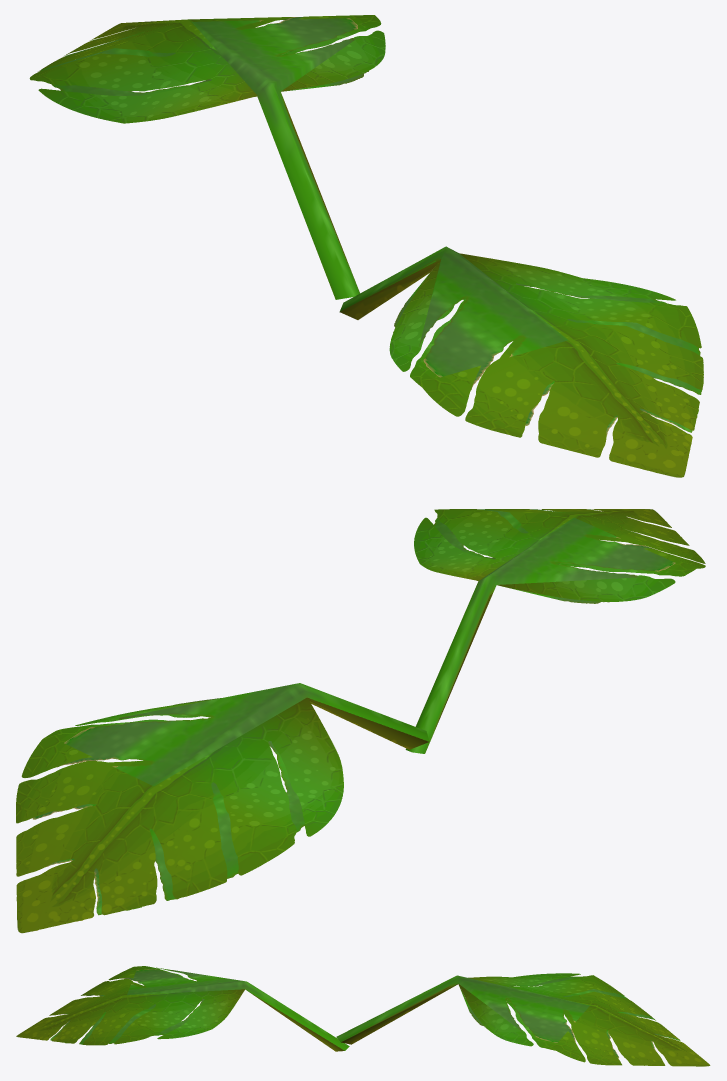
Rendered from peruskasvi_taimi_kuihtunut.FBX.
The picture shows the model from 3 angles, top to bottom: view 1: azimuth 30°, elevation 25°; view 2: azimuth 150°, elevation 25°; view 3: azimuth 270°, elevation 25°; orthographic projection. The views are drawn at different scales.
Parts seen in each view (by area): view 1: peruskasvi_lehti004, peruskasvi_lehti003; view 2: peruskasvi_lehti003, peruskasvi_lehti004; view 3: peruskasvi_lehti003, peruskasvi_lehti004.
Boxes of the visible parts, <box> form: peruskasvi_lehti004: <box>339,246,703,477</box>; peruskasvi_lehti003: <box>29,15,385,299</box>; peruskasvi_lehti003: <box>16,683,429,933</box>; peruskasvi_lehti004: <box>405,509,705,753</box>; peruskasvi_lehti003: <box>336,973,710,1066</box>; peruskasvi_lehti004: <box>16,966,349,1051</box>.
Bounding box in the file's own units: 24.73 × 9.75 × 74.68.
